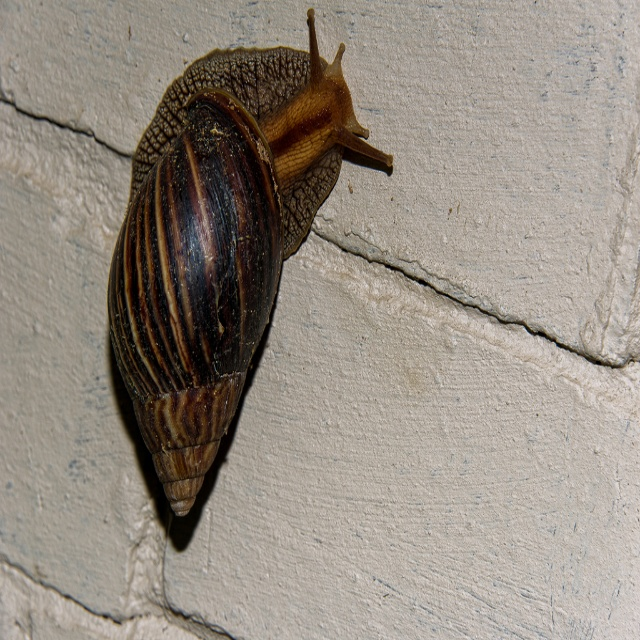Snail: (105, 7, 397, 537)
